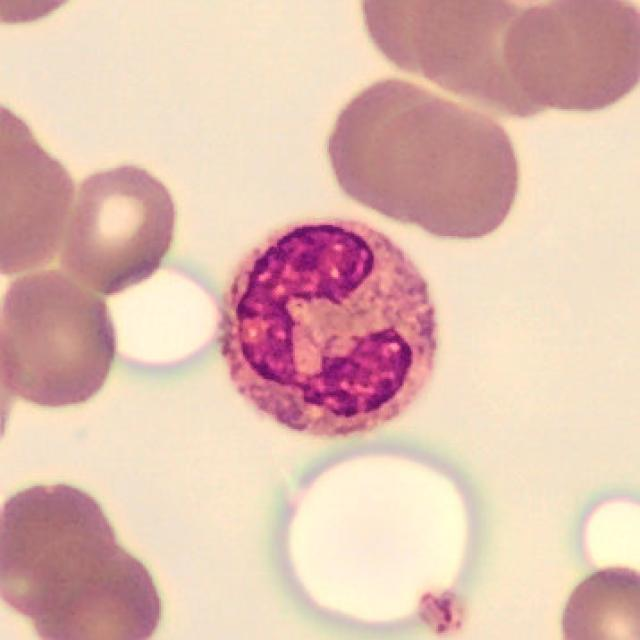Neutrofilo segmentado: (218, 220, 440, 440)
